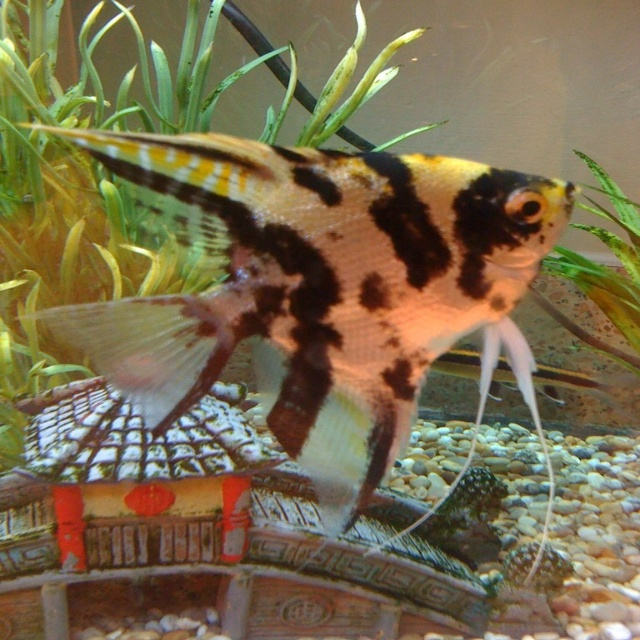Fish: (29, 101, 564, 523)
